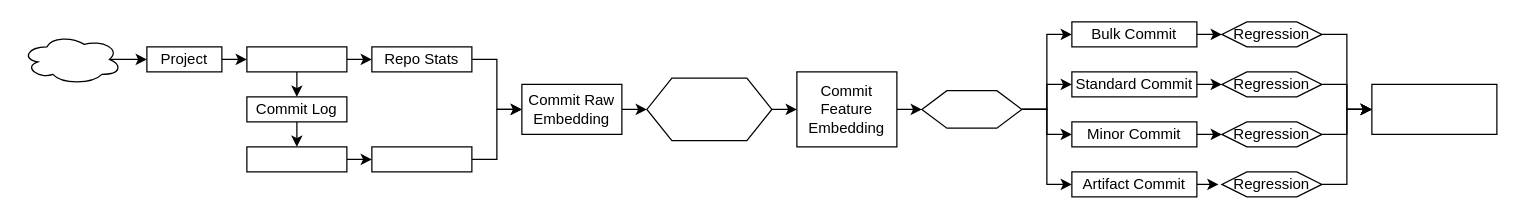
The diagram is 1519 pixels wide and 219 high, and some of its shapes have lost their labels. Each missing label, with the box of its shape:
Classifier: (921, 89, 1022, 128)
Commit: (246, 146, 347, 172)
Commit Stats: (371, 146, 472, 172)
Commit Target Embedding: (1371, 83, 1497, 134)
Feature Engineering: (646, 77, 772, 141)
GitHub: (21, 33, 122, 84)
Repository: (246, 46, 347, 72)
